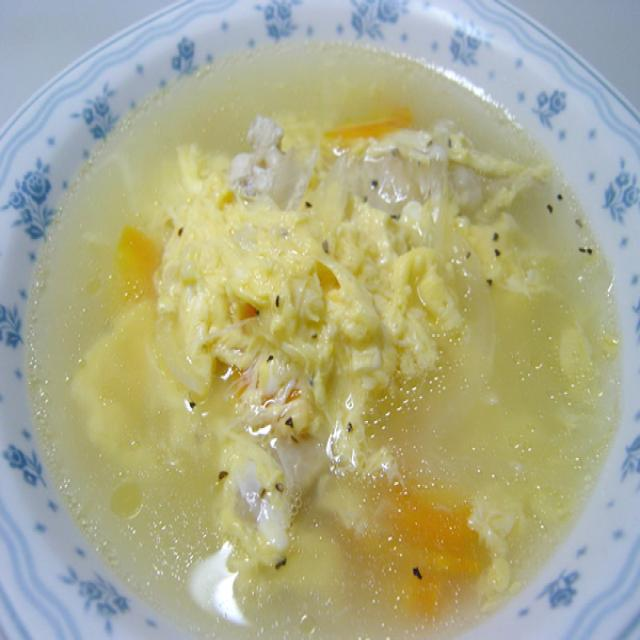汤锅炖物: (0, 4, 636, 640)
